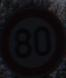Speed Limit -80-: (0, 0, 65, 77)
